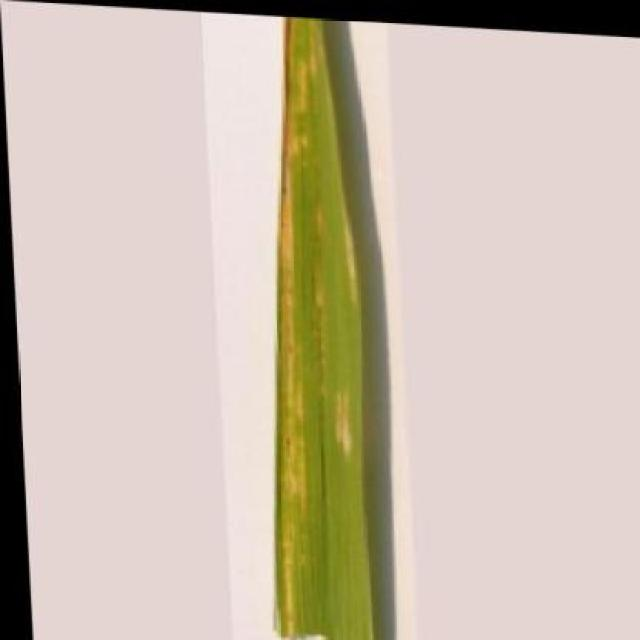Brown_Spot: (228, 11, 378, 640)
